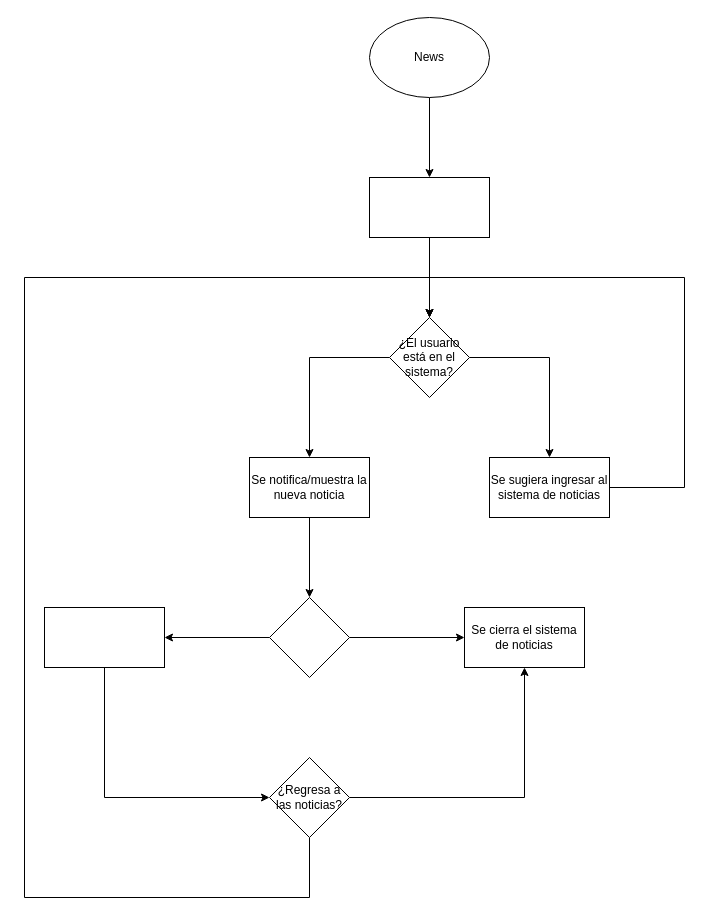
Some shapes in this 710 by 923 pixel diagram are drawn without their labels. Each missing label, with the centre of its shape:
"Se abre una instacia información especifica" belongs at point (104, 637).
"Se agrega un nuevo libro" belongs at point (429, 207).
"¿Se ingresa el link?" belongs at point (309, 637).
